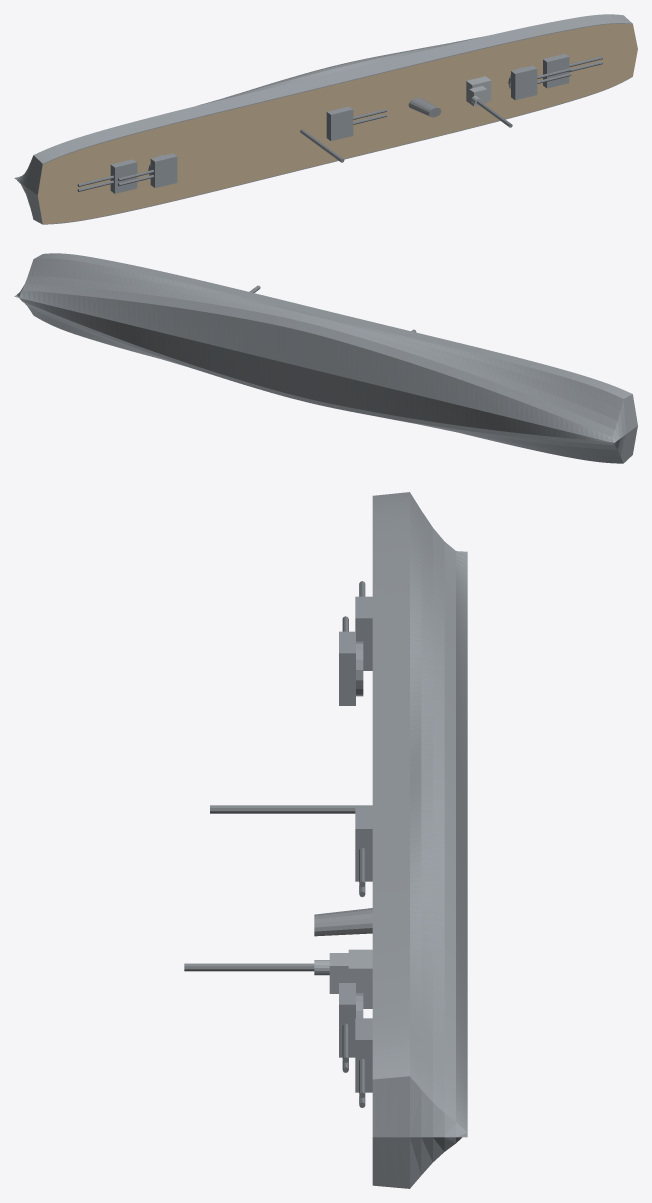
Rendered from A127_加賀型.glb.
3 renders of one model, top to bottom at view 1: azimuth 30°, elevation 25°; view 2: azimuth 150°, elevation 25°; view 3: azimuth 270°, elevation 25°, orthographic. The views are drawn at different scales.
Visible parts, largest first — view 1: A127_加賀型; view 2: A127_加賀型; view 3: A127_加賀型.
Part boxes in pixels (<box>): A127_加賀型: <box>14,14,637,224</box>; A127_加賀型: <box>14,253,637,463</box>; A127_加賀型: <box>184,492,467,1188</box>.
Size of the model in its own units: 229 by 30.95 by 46.72.
